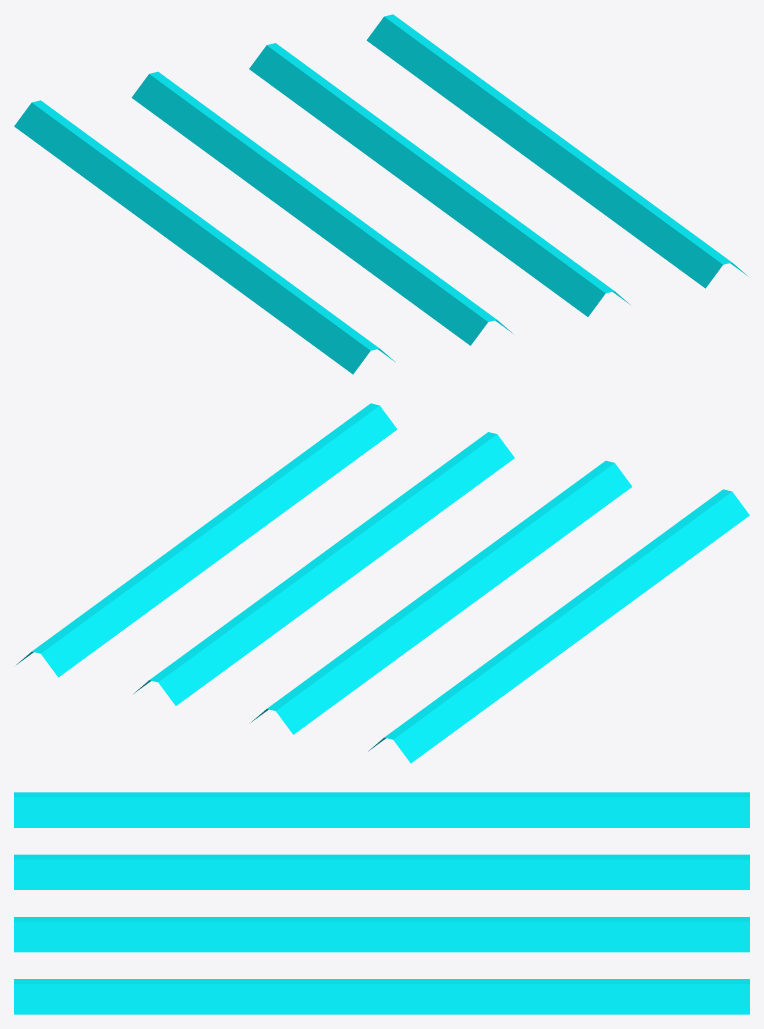
Rendered from Deco Wire I.fbx.
3 views of the same model, one above another, from view 1: azimuth 30°, elevation 25°; view 2: azimuth 150°, elevation 25°; view 3: azimuth 270°, elevation 25° (orthographic). The views are drawn at different scales.
Parts seen in each view (by area): view 1: Deco Wire I; view 2: Deco Wire I; view 3: Deco Wire I.
Part boxes in pixels (x1=…): Deco Wire I: x1=14, y1=14, x2=747, y2=374; Deco Wire I: x1=16, y1=403, x2=749, y2=763; Deco Wire I: x1=14, y1=792, x2=749, y2=1014.
Size of the model in its own units: 67.56 by 3.19 by 100.
